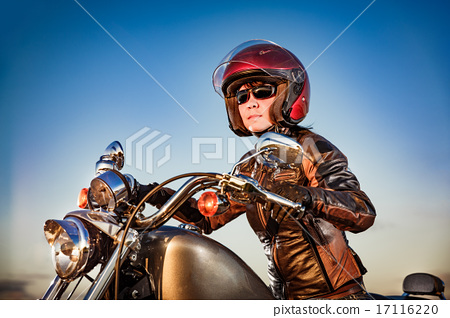helmet: (219, 47, 310, 134)
